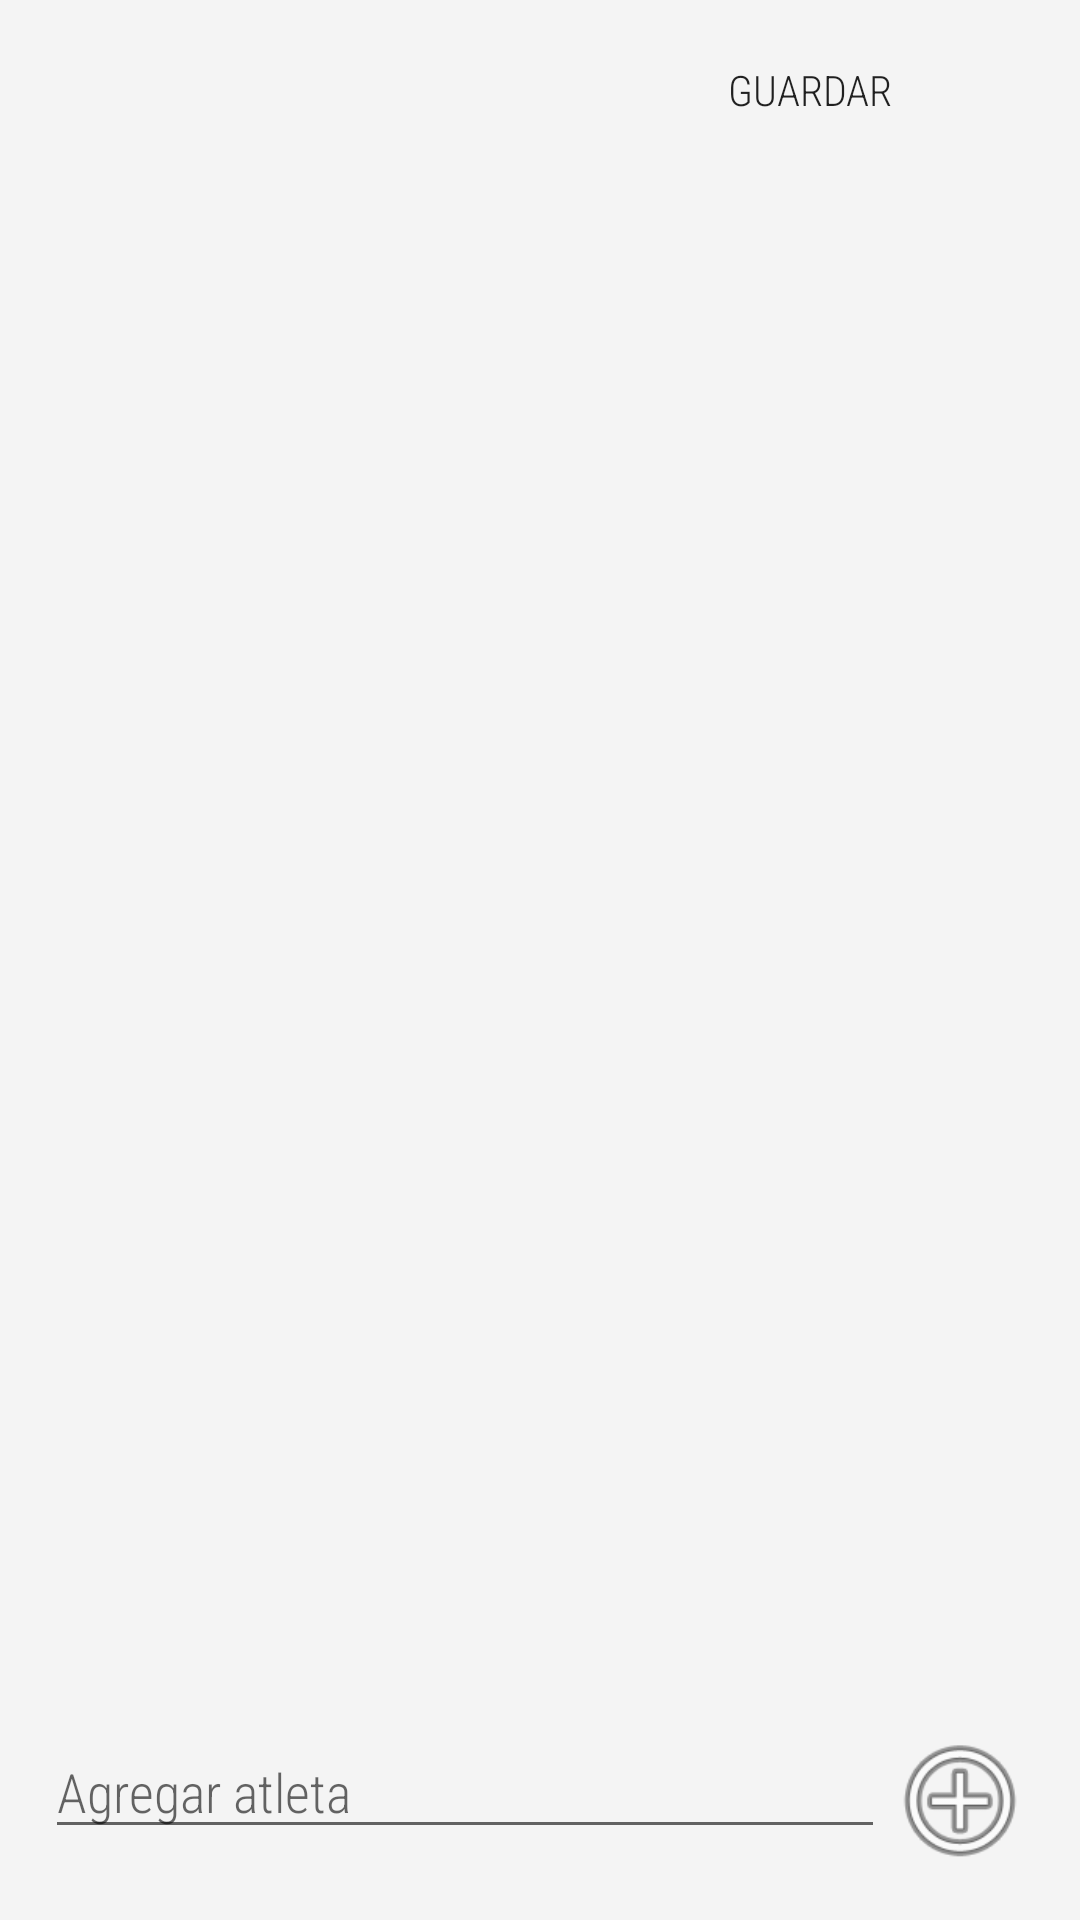

Named icons in this screenshot (1080x1920) and their centers, (x,y):
add: (960,1801)
